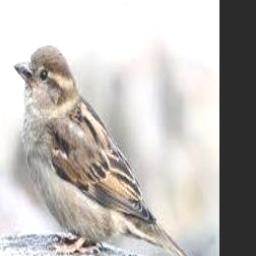Sparrow: (15, 45, 201, 256)
